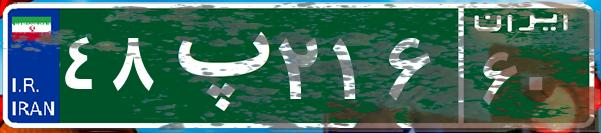0: (525, 38, 570, 115)
1: (330, 28, 385, 110)
2: (273, 28, 330, 110)
4: (57, 26, 110, 107)
6: (385, 28, 445, 110), (475, 38, 525, 113)
8: (110, 28, 158, 105)
پ: (158, 15, 273, 115)
